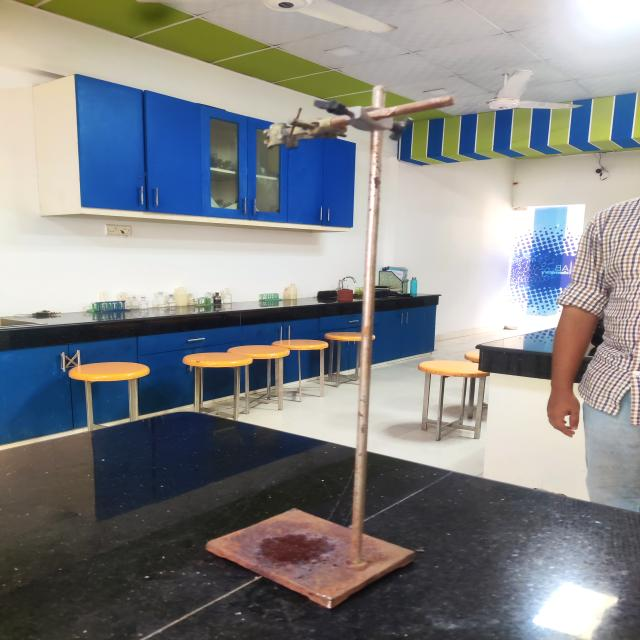Burette_Stands: (198, 72, 473, 623)
